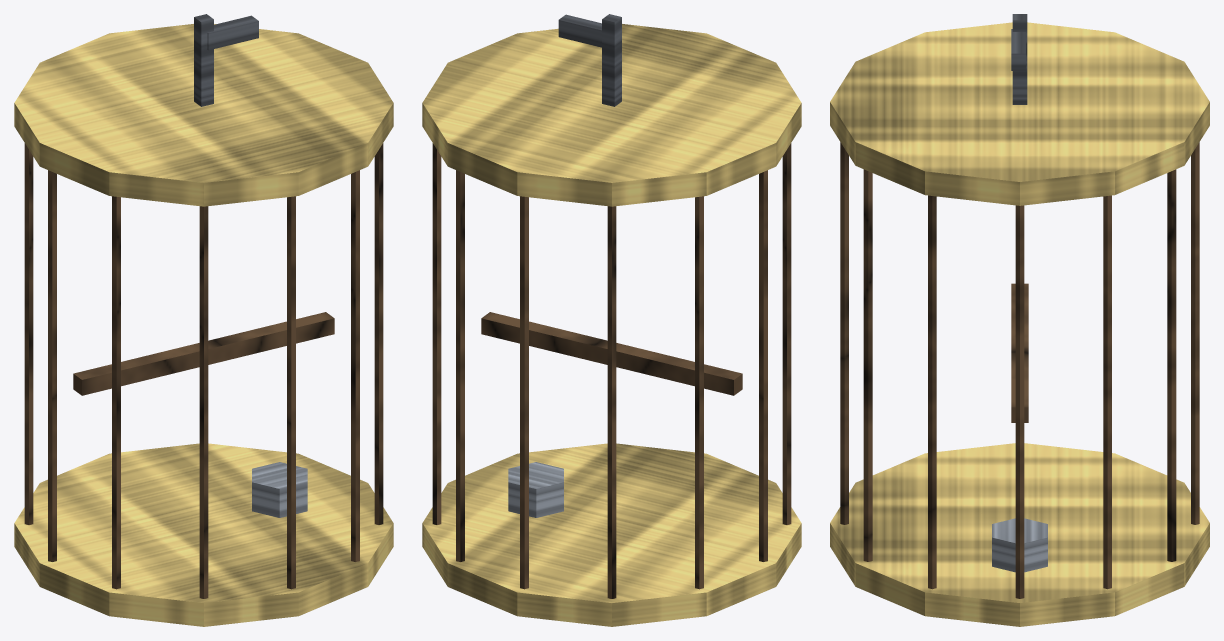
The model's file is bird_cage.fbx.
3 views of the same model, side by side, from view 1: azimuth 30°, elevation 25°; view 2: azimuth 150°, elevation 25°; view 3: azimuth 270°, elevation 25° (orthographic).
Visible parts, largest first — view 1: bird_cage; view 2: bird_cage; view 3: bird_cage.
Boxes of the visible parts, <box> form: bird_cage: <box>14,14,393,626</box>; bird_cage: <box>422,14,801,626</box>; bird_cage: <box>830,14,1209,626</box>.
Size of the model in its own units: 26 by 40 by 26.
